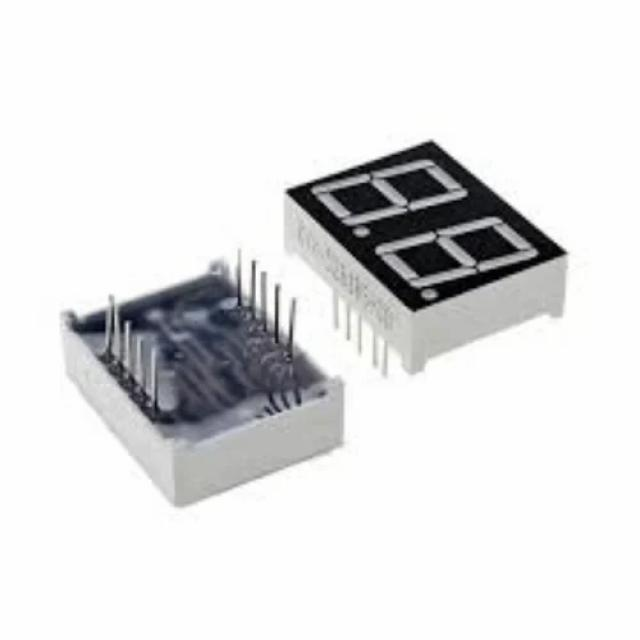Display: (261, 130, 567, 321)
